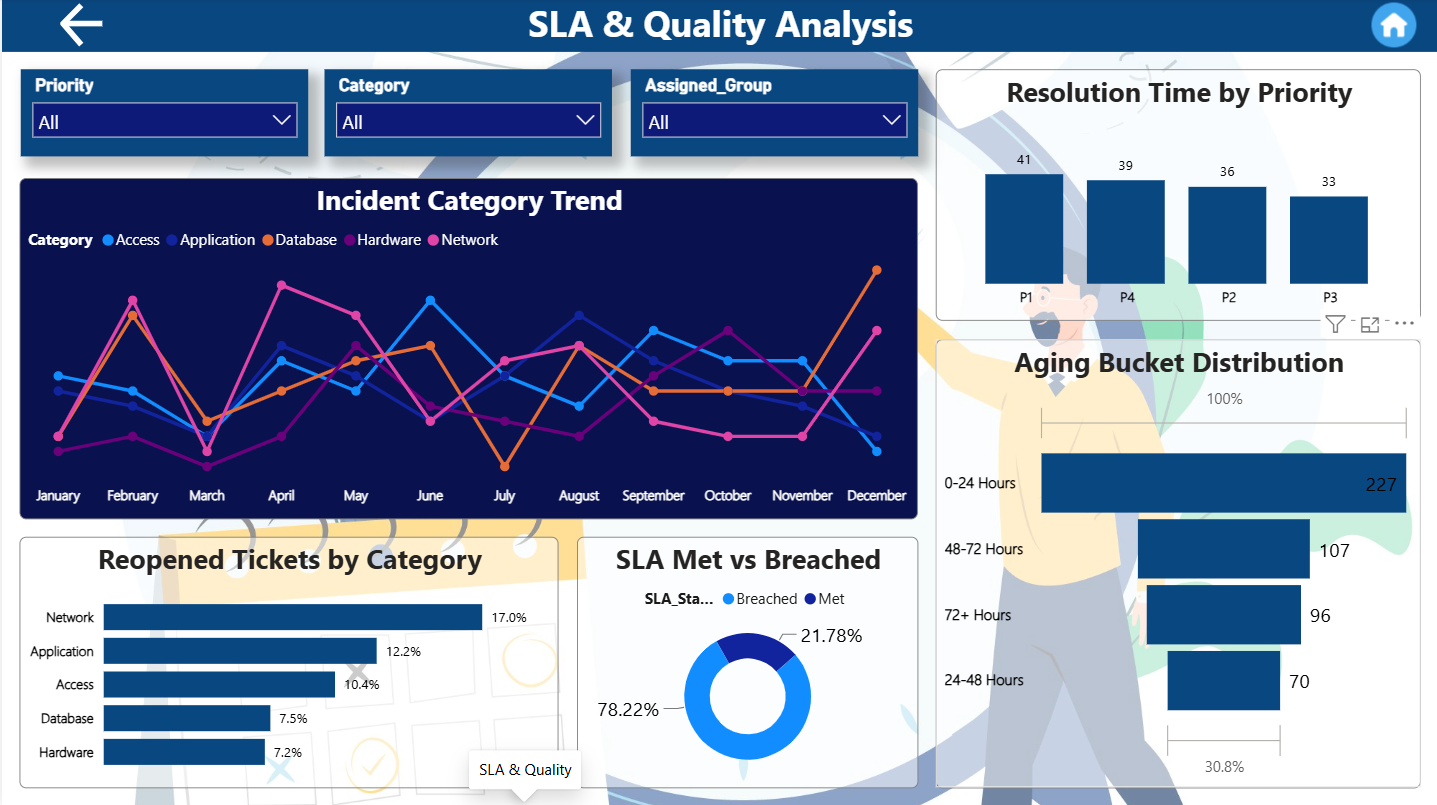

This screenshot's page, from the dashboard's own definition file:
{"tool":"powerbi","page":{"name":"SLA & Quality","canvas":[1280,720],"ordinal":3},"visuals":[{"type":"textbox","title":"SLA & Quality Analysis","box":[0,0,1280,48],"z":0},{"type":"actionButton","box":[48,0,96,48],"z":1000},{"type":"actionButton","box":[1216,0,48,48],"z":2000},{"type":"donutChart","title":"SLA Met vs Breached","fields":{"Category":["Incident_Data_Set.SLA_Status"],"Y":["Incident_Data_Set.Total Tickets"]},"box":[512,480,304,224],"z":3000},{"type":"clusteredColumnChart","title":"Resolution Time by Priority","fields":{"Category":["Incident_Data_Set.Priority"],"Y":["Incident_Data_Set.Avg Resolution Time(Hrs)"]},"box":[832,64,432,224],"z":4000},{"type":"clusteredBarChart","title":"Reopened Tickets by Category","fields":{"Category":["Incident_Data_Set.Category"],"Y":["Incident_Data_Set.Reopened%"]},"box":[16,480,480,224],"z":5000},{"type":"funnel","title":"Aging Bucket Distribution","fields":{"Category":["Incident_Data_Set.Aging_Bucket"],"Y":["Incident_Data_Set.Total Tickets"]},"box":[832,304,432,400],"z":6000},{"type":"lineChart","title":"Incident Category Trend","fields":{"Category":["Incident_Data_Set.Created_Date.Variation.Date Hierarchy.Month","Incident_Data_Set.Created_Date.Variation.Date Hierarchy.Day"],"Series":["Incident_Data_Set.Category"],"Y":["Incident_Data_Set.Total Tickets"]},"box":[16,160,800,304],"z":7000},{"type":"slicer","fields":{"Values":["Incident_Data_Set.Priority"]},"box":[16.2,63.8,256.2,77.5],"z":8000},{"type":"slicer","fields":{"Values":["Incident_Data_Set.Category"]},"box":[287.5,63.8,256.2,77.5],"z":9000},{"type":"slicer","fields":{"Values":["Incident_Data_Set.Assigned_Group"]},"box":[560,63.8,256.2,77.5],"z":10000}]}

Visuals, with their boxes in screenshot pixels (x1, y1, x2, y2), scaled from the page's 1280x720 canvas onto the 1437x805 screenshot:
"SLA & Quality Analysis" textbox: box(0, 0, 1436, 54)
actionButton: box(54, 0, 162, 54)
actionButton: box(1365, 0, 1419, 54)
"SLA Met vs Breached" donutChart: box(575, 537, 916, 787)
"Resolution Time by Priority" clusteredColumnChart: box(934, 72, 1419, 322)
"Reopened Tickets by Category" clusteredBarChart: box(18, 537, 557, 787)
"Aging Bucket Distribution" funnel: box(934, 340, 1419, 787)
"Incident Category Trend" lineChart: box(18, 179, 916, 519)
slicer - Incident_Data_Set.Priority: box(18, 71, 306, 158)
slicer - Incident_Data_Set.Category: box(323, 71, 610, 158)
slicer - Incident_Data_Set.Assigned_Group: box(629, 71, 916, 158)
